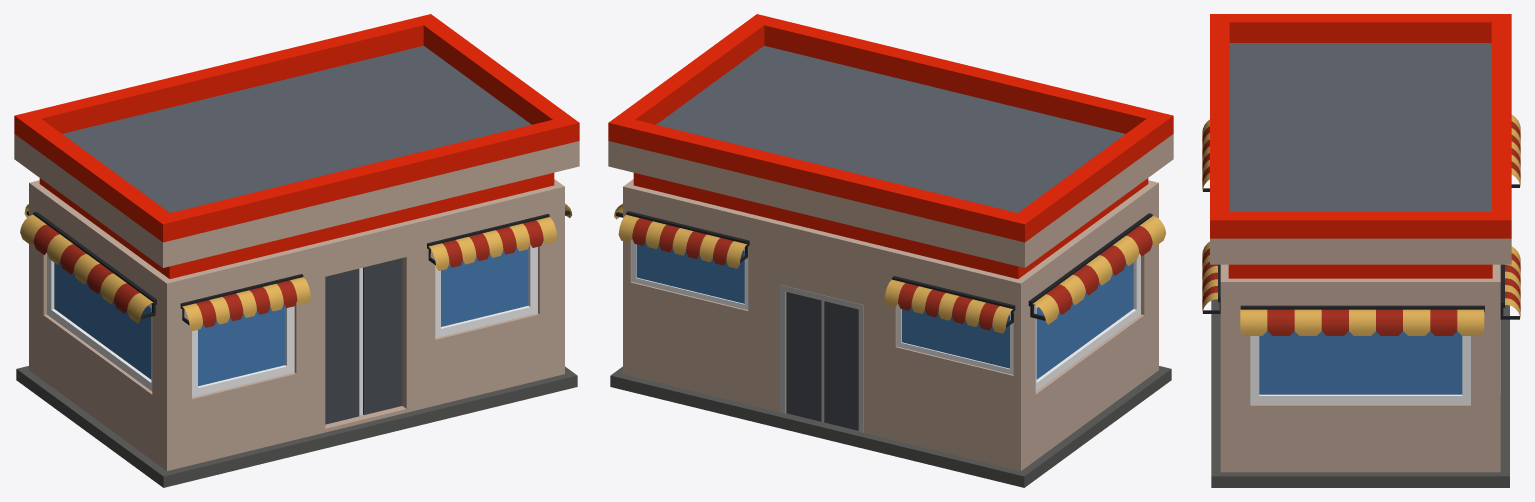
Rendered from FuelStationShop_1.fbx.
3 renders of one model, left to right at view 1: azimuth 30°, elevation 25°; view 2: azimuth 150°, elevation 25°; view 3: azimuth 270°, elevation 25°, orthographic.
Visible parts, largest first — view 1: FuelStationShop_1; view 2: FuelStationShop_1; view 3: FuelStationShop_1.
Boxes of the visible parts, left/top/right/bottom form: FuelStationShop_1: left=14, top=14, right=579, bottom=487; FuelStationShop_1: left=608, top=14, right=1173, bottom=487; FuelStationShop_1: left=1202, top=14, right=1520, bottom=487.
Bounding box in the file's own units: 946 × 553 × 595.
